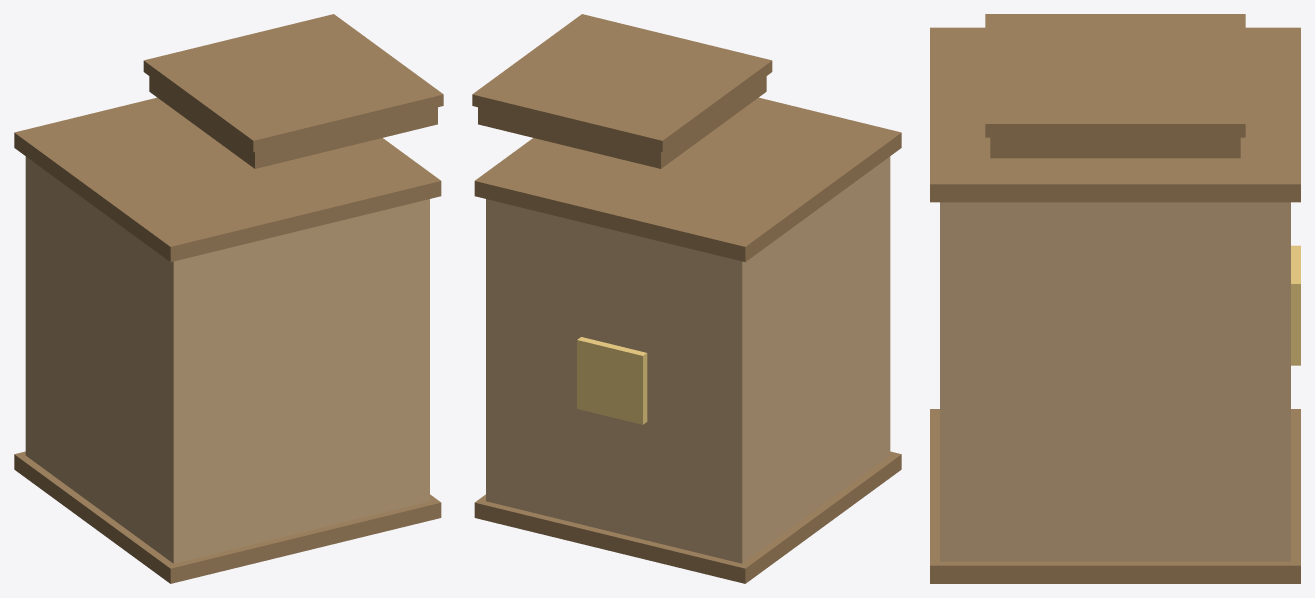
Rendered from crate.glb.
The picture shows the model from 3 angles, left to right: view 1: azimuth 30°, elevation 25°; view 2: azimuth 150°, elevation 25°; view 3: azimuth 270°, elevation 25°; orthographic projection. The views are drawn at different scales.
Visible parts, largest first — view 1: body, top, lid_loose_top, bot, lid_loose; view 2: body, top, lid_loose_top, bot, mark, lid_loose; view 3: body, lid_loose_top, top, bot, lid_loose, mark.
Part boxes in pixels (x1,y1,x2,y2): body: [25, 156, 429, 563]; top: [14, 97, 441, 262]; lid_loose_top: [143, 14, 443, 152]; bot: [14, 451, 441, 583]; lid_loose: [149, 76, 437, 168]; body: [486, 156, 890, 563]; top: [474, 97, 901, 262]; lid_loose_top: [472, 14, 772, 152]; bot: [474, 451, 901, 583]; mark: [577, 337, 647, 424]; lid_loose: [478, 76, 766, 168]; body: [940, 202, 1290, 561]; lid_loose_top: [985, 14, 1245, 137]; top: [930, 27, 1300, 202]; bot: [930, 409, 1300, 583]; lid_loose: [990, 137, 1240, 158]; mark: [1291, 245, 1300, 365].
Bounding box in the file's own units: 0.81 × 1.05 × 0.74.
